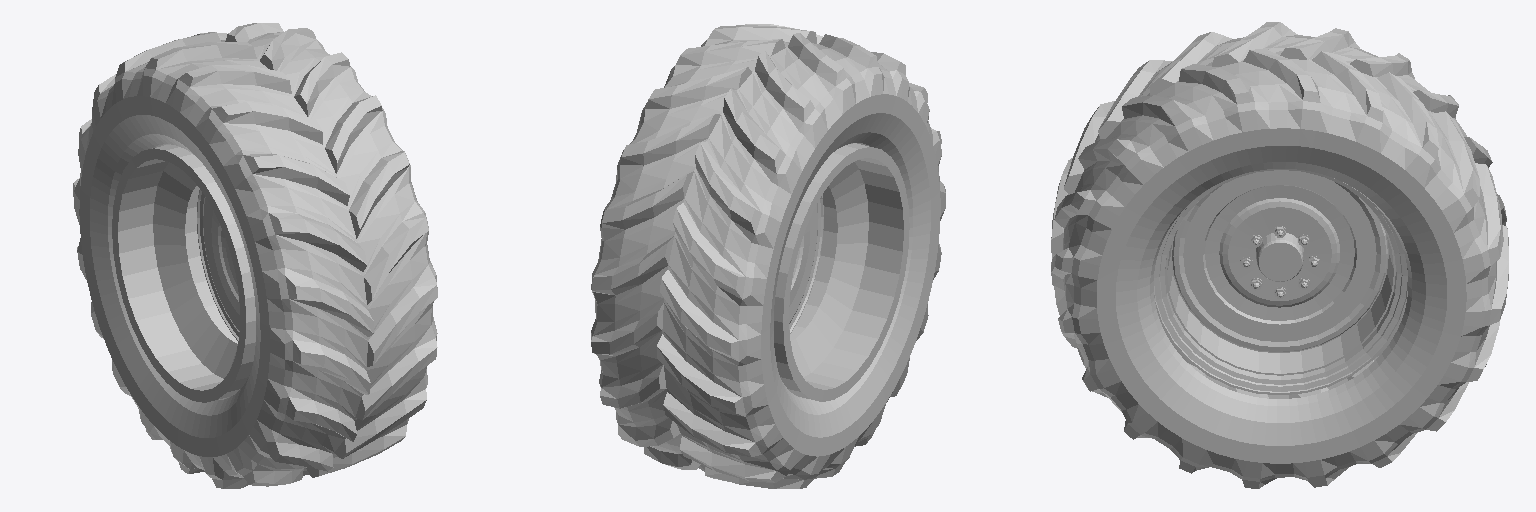
3 views of the same model, side by side, from view 1: azimuth 30°, elevation 25°; view 2: azimuth 150°, elevation 25°; view 3: azimuth 270°, elevation 25° (orthographic).
Parts seen in each view (by area): view 1: Non_subD_2, subDx_2; view 2: Non_subD_2, subDx_2; view 3: Non_subD_2, subDx_2.
Part boxes in pixels (x1,y1,x2,y2): Non_subD_2: (73,23,437,488); subDx_2: (112,145,255,402); Non_subD_2: (591,24,945,488); subDx_2: (774,143,909,401); Non_subD_2: (1051,22,1508,488); subDx_2: (1154,169,1407,394).
Size of the model in its own units: 0.2477 by 0.5797 by 0.5798.